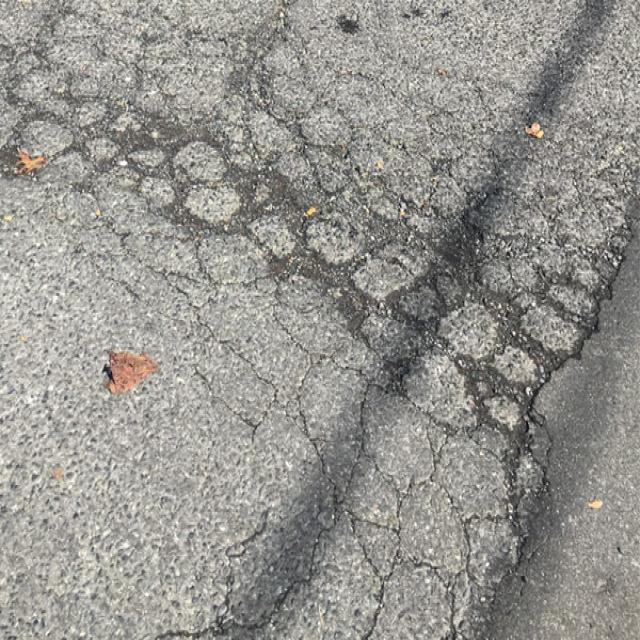Drain Hole: (96, 102, 640, 491)
